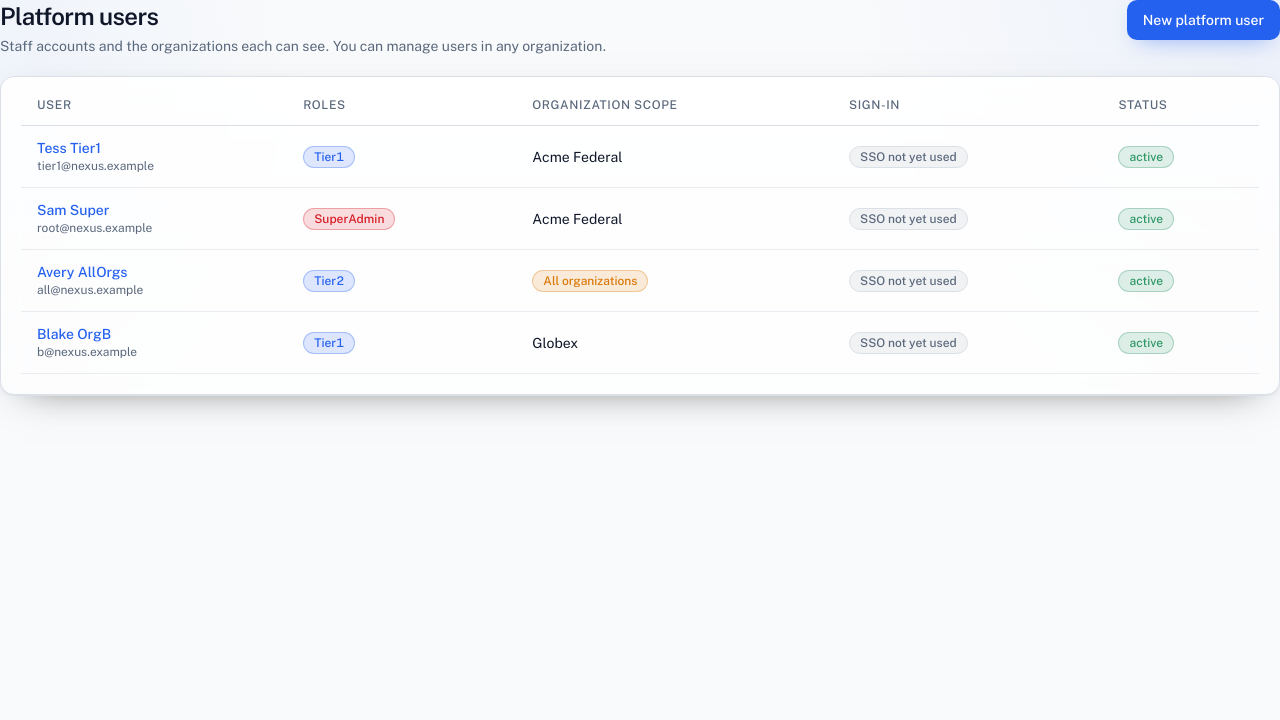
Test: TeamPage for a delegated admin › explains up front that Sam Super is read-only, rather than failing on save
The width and height of the screenshot is (1280, 720).
Click the text "Sam Super" at coordinates (73, 210), box left=37, top=202, right=109, bottom=218
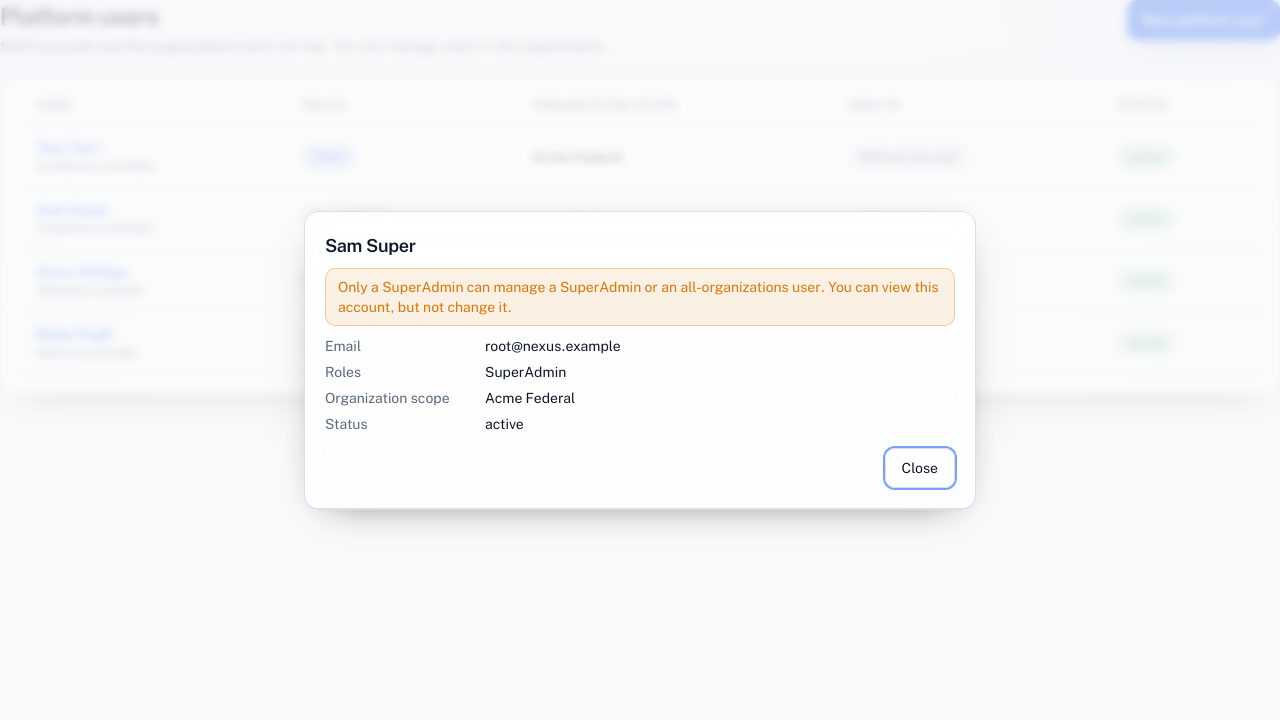
Expected: the text "Only a SuperAdmin can manage" is shown, left=338, top=279, right=938, bottom=315
